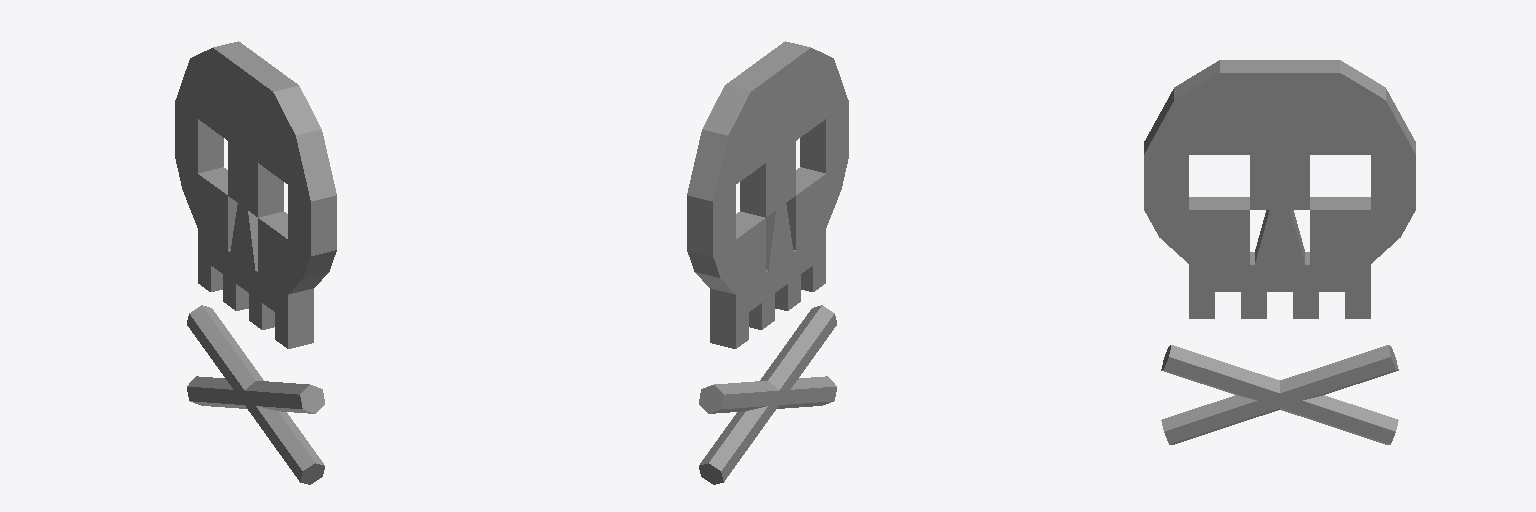
File: Skull-Icon2.obj
3 views of the same model, side by side, from view 1: azimuth 30°, elevation 25°; view 2: azimuth 150°, elevation 25°; view 3: azimuth 270°, elevation 25° (orthographic).
Visible parts, largest first — view 1: Skull_Cube.001, Bones_Cylinder; view 2: Skull_Cube.001, Bones_Cylinder; view 3: Skull_Cube.001, Bones_Cylinder.
Part boxes in pixels (bbox=[...]): Skull_Cube.001: bbox=[175, 41, 336, 348]; Bones_Cylinder: bbox=[187, 305, 324, 484]; Skull_Cube.001: bbox=[687, 41, 848, 348]; Bones_Cylinder: bbox=[699, 305, 836, 484]; Skull_Cube.001: bbox=[1144, 60, 1415, 318]; Bones_Cylinder: bbox=[1161, 345, 1398, 444].
Size of the model in its own units: 1 by 13.84 by 9.